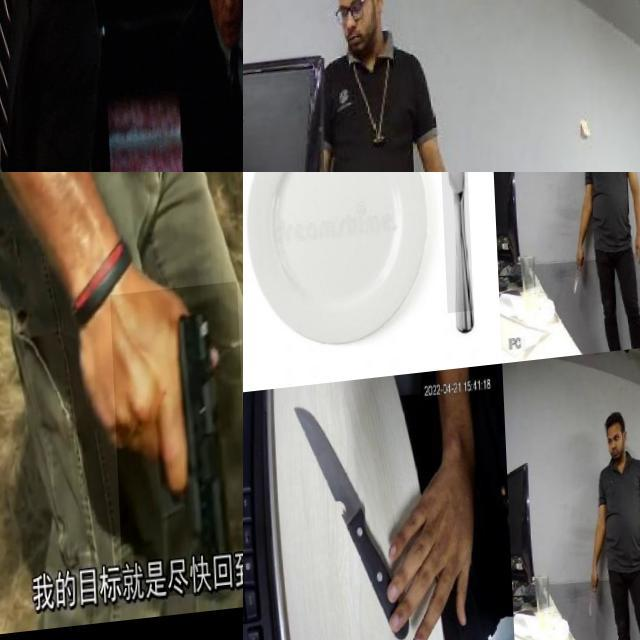-: (285, 398, 399, 640), (436, 172, 471, 319), (568, 272, 581, 306), (581, 592, 594, 626)
gun-knife-thesis - v11 Yolov5 augmented: (106, 290, 243, 607), (0, 0, 41, 80)
